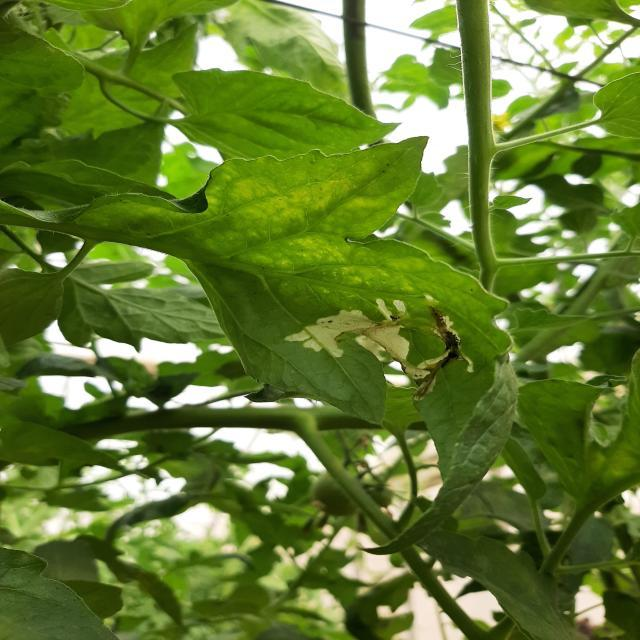Tuta absoluta: (285, 264, 459, 402)
